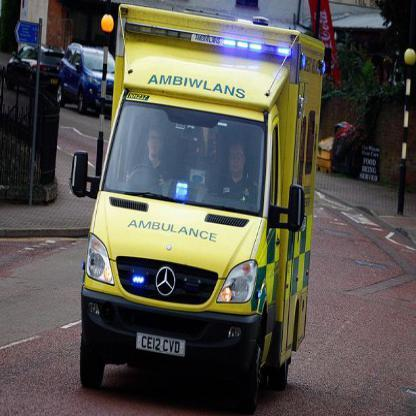Ambulance - v1 Ambulance last generate: (71, 12, 326, 402)
